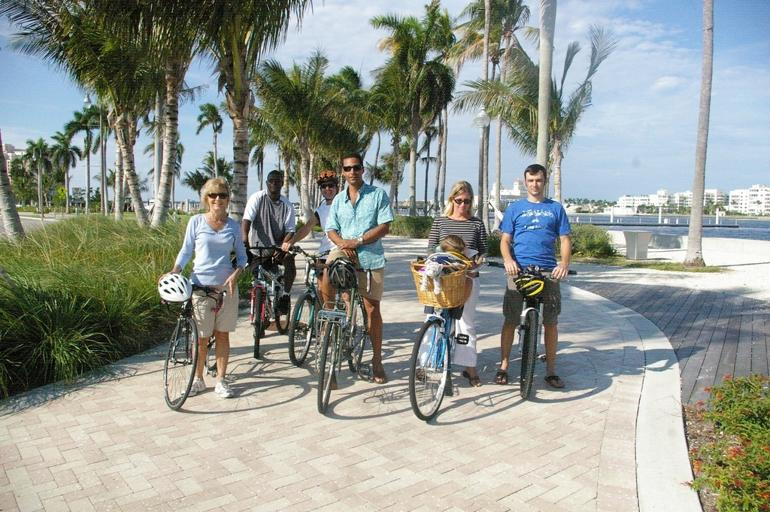non-vehicle: (408, 243, 498, 420), (481, 254, 579, 404), (302, 254, 368, 413), (158, 283, 228, 410), (229, 241, 290, 362), (287, 242, 331, 370)
